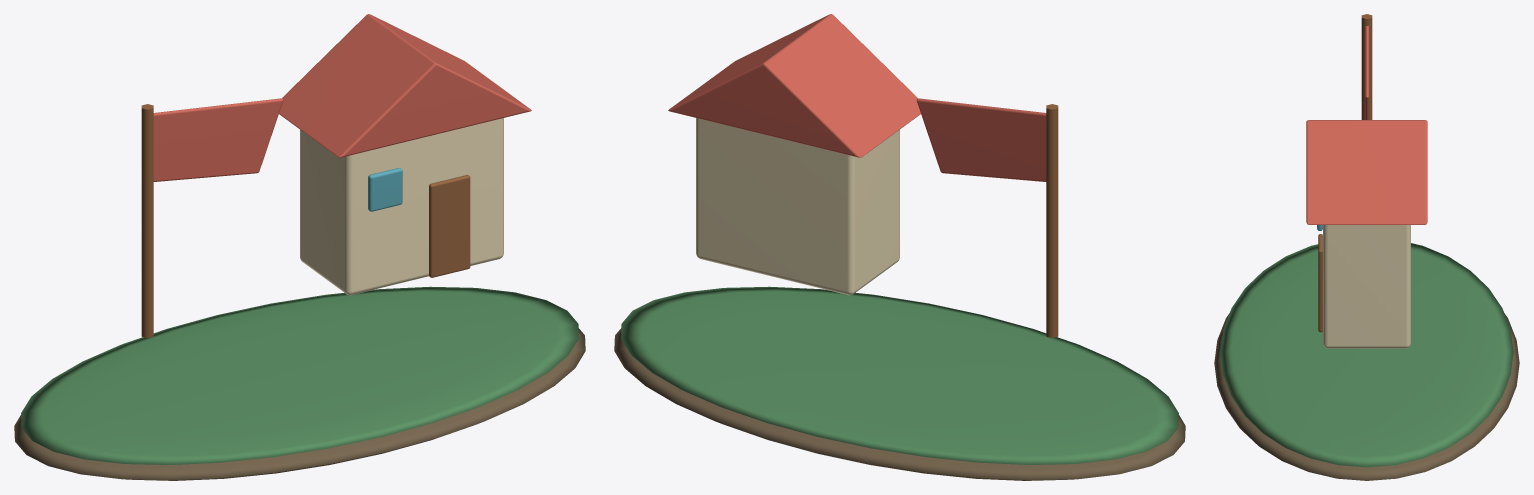
Rendered from country-home.glb.
3 views of the same model, side by side, from view 1: azimuth 30°, elevation 25°; view 2: azimuth 150°, elevation 25°; view 3: azimuth 270°, elevation 25° (orthographic). The views are drawn at different scales.
Parts seen in each view (by area): view 1: country-home_surface_01, country-home_surface_03, country-home_surface_04, country-home_surface_00, country-home_surface_02, country-home_surface_05; view 2: country-home_surface_01, country-home_surface_03, country-home_surface_04, country-home_surface_00, country-home_surface_02; view 3: country-home_surface_01, country-home_surface_03, country-home_surface_04, country-home_surface_00, country-home_surface_02.
Boxes of the visible parts, left/top/right/bottom form: country-home_surface_01: left=21, top=286, right=578, bottom=464; country-home_surface_03: left=153, top=14, right=531, bottom=181; country-home_surface_04: left=300, top=118, right=503, bottom=295; country-home_surface_00: left=14, top=328, right=585, bottom=480; country-home_surface_02: left=141, top=104, right=470, bottom=337; country-home_surface_05: left=368, top=168, right=402, bottom=211; country-home_surface_01: left=621, top=286, right=1178, bottom=464; country-home_surface_03: left=668, top=14, right=1046, bottom=181; country-home_surface_04: left=696, top=118, right=899, bottom=295; country-home_surface_00: left=614, top=328, right=1185, bottom=480; country-home_surface_02: left=1046, top=104, right=1058, bottom=337; country-home_surface_01: left=1220, top=243, right=1513, bottom=467; country-home_surface_03: left=1306, top=26, right=1427, bottom=224; country-home_surface_04: left=1323, top=225, right=1410, bottom=348; country-home_surface_00: left=1214, top=313, right=1519, bottom=480; country-home_surface_02: left=1318, top=14, right=1372, bottom=332.
Bounding box in the file's own units: 4.56 × 2.72 × 2.5.
